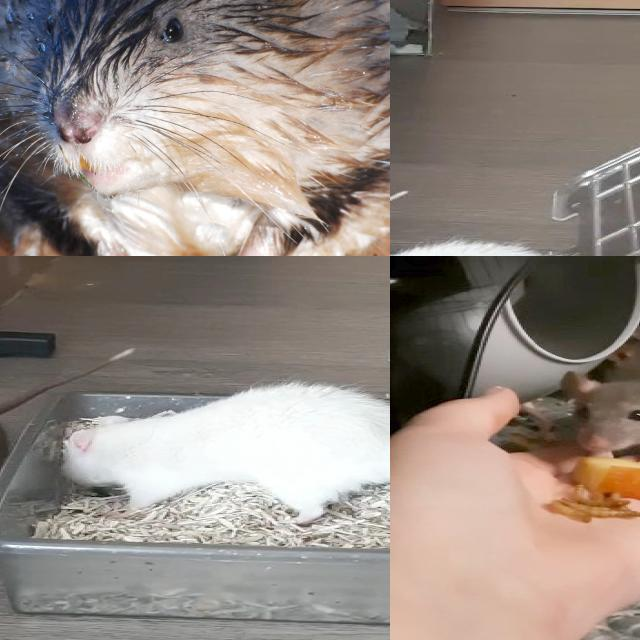rat: (0, 0, 390, 256), (44, 384, 390, 526), (555, 367, 640, 473), (606, 337, 640, 380)
